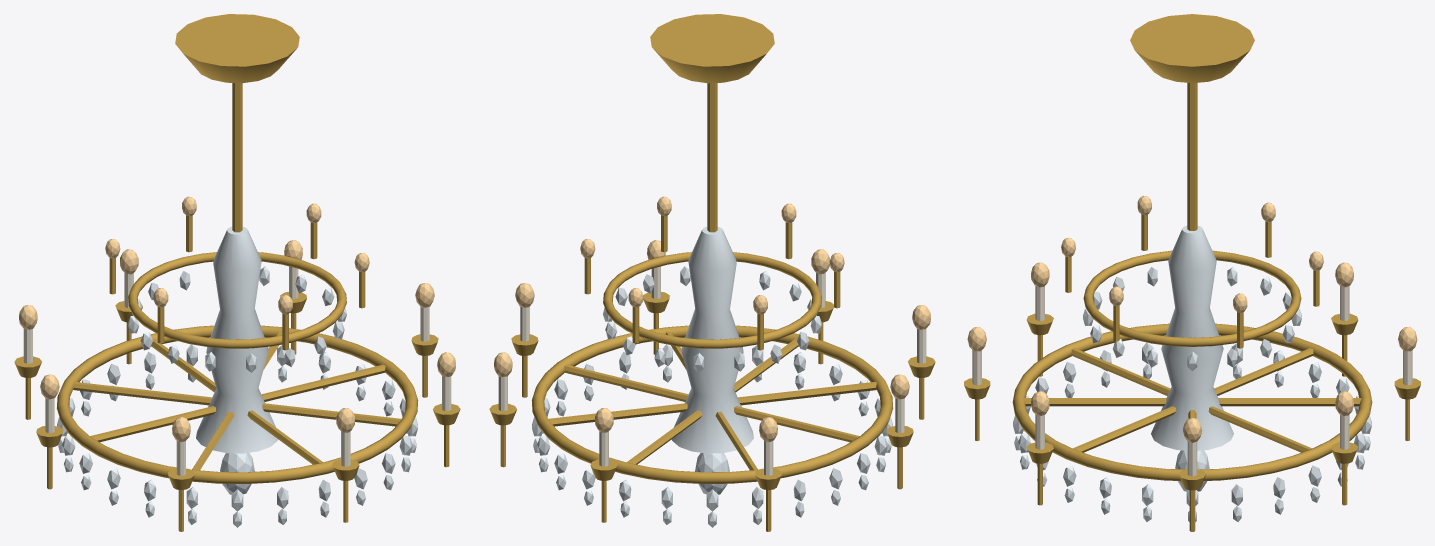
The model's file is chandelier.glb.
3 renders of one model, left to right at view 1: azimuth 30°, elevation 25°; view 2: azimuth 150°, elevation 25°; view 3: azimuth 270°, elevation 25°, orthographic.
Parts seen in each view (by area): view 1: crystal2, gold3, gold0, gold4, gold1, gold5_4, gold5_1, gold5_8, gold5_5, crystal19, gold5_7, gold5_3 (+1 smaller); view 2: crystal2, gold3, gold0, gold4, gold1, gold5_6, gold5_1, gold5_2, gold5_5, crystal19, gold5_3, gold5_7 (+1 smaller); view 3: crystal2, gold3, gold0, gold4, gold1, gold5_3, gold5_7, gold5_2, gold5_8, gold5_4, gold5_6, crystal19.
Boxes of the visible parts, box(x1,y1,x2,y2) form: crystal2: box(196, 226, 277, 453); gold3: box(56, 325, 418, 483); gold0: box(175, 14, 299, 83); gold4: box(128, 252, 346, 348); gold1: box(232, 83, 242, 232); gold5_4: box(73, 381, 211, 405); gold5_1: box(261, 364, 385, 401); gold5_8: box(262, 403, 401, 426); gold5_5: box(90, 406, 215, 442); crystal19: box(220, 453, 254, 494); gold5_7: box(247, 410, 323, 464); gold5_3: box(151, 338, 216, 392); crystal2: box(672, 226, 753, 453); gold3: box(531, 325, 893, 483); gold0: box(650, 14, 774, 83); gold4: box(603, 252, 821, 348); gold1: box(707, 83, 717, 232); gold5_6: box(738, 381, 876, 405); gold5_1: box(564, 364, 688, 401); gold5_2: box(548, 403, 687, 426); gold5_5: box(734, 406, 859, 442); crystal19: box(695, 453, 729, 494); gold5_3: box(626, 410, 702, 464); gold5_7: box(733, 338, 798, 392); crystal2: box(1151, 225, 1233, 450); gold3: box(1012, 323, 1372, 480); gold0: box(1130, 14, 1254, 82); gold4: box(1083, 250, 1301, 346); gold1: box(1187, 82, 1197, 230); gold5_3: box(1218, 398, 1361, 406); gold5_7: box(1023, 398, 1166, 406); gold5_2: box(1208, 406, 1312, 452); gold5_8: box(1072, 406, 1176, 452); gold5_4: box(1214, 348, 1313, 395); gold5_6: box(1071, 348, 1170, 395); crystal19: box(1175, 450, 1209, 491).
Size of the model in its own units: 1.32 by 1.44 by 1.32.
